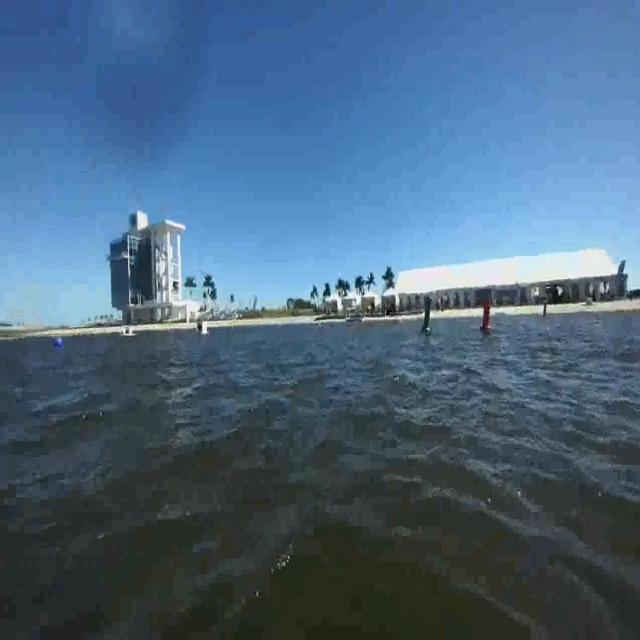green-column-buoy: (419, 296, 436, 336)
red-column-buoy: (482, 299, 492, 330)
